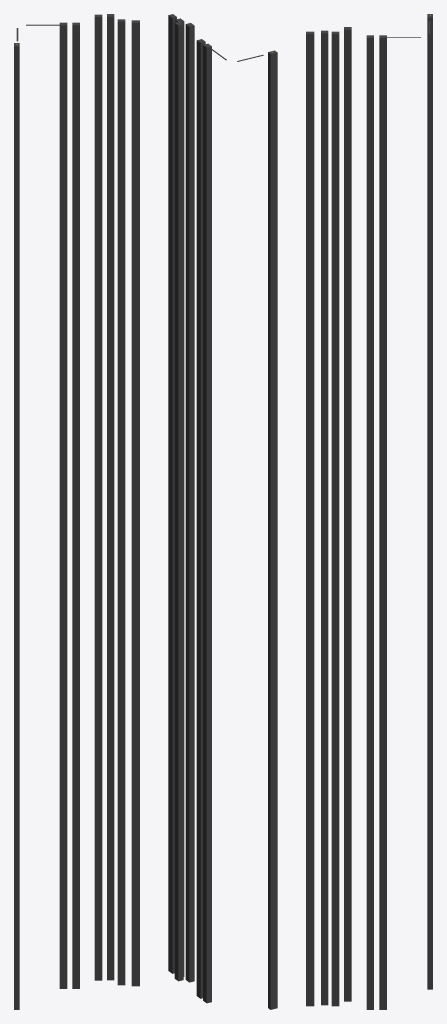
Rendered from level2.obj.
3 renders of one model, left to right at view 1: azimuth 90°, elevation 25°; view 2: azimuth 210°, elevation 25°; view 3: azimuth 270°, elevation 25°, orthographic.
Parts seen in each view (by area): view 1: Fried_Foods.003; view 2: Fried_Foods.003; view 3: Fried_Foods.003.
Boxes of the visible parts, <box> form: Fried_Foods.003: <box>14,14,139,1009</box>; Fried_Foods.003: <box>168,14,277,1009</box>; Fried_Foods.003: <box>306,14,432,1009</box>.
Size of the model in its own units: 11.63 by 202 by 23.67.
Materials: 2 (2 with a texture image).
